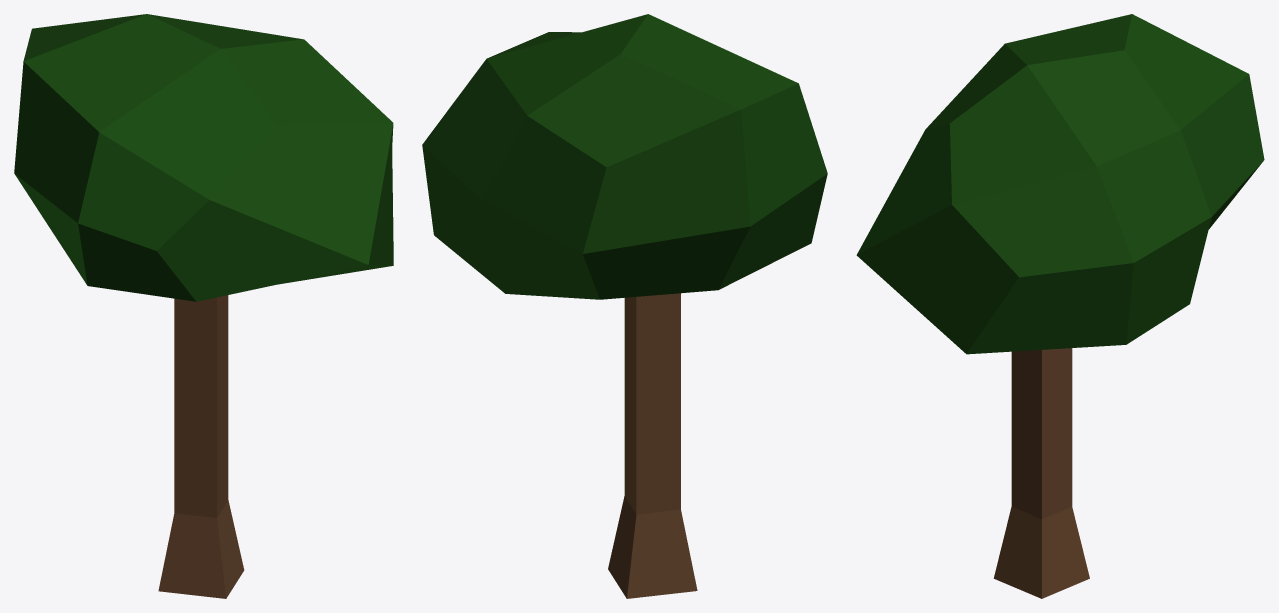
The model's file is tree_1.glb.
The picture shows the model from 3 angles, left to right: view 1: azimuth 30°, elevation 25°; view 2: azimuth 150°, elevation 25°; view 3: azimuth 270°, elevation 25°; orthographic projection. The views are drawn at different scales.
Parts seen in each view (by area): view 1: rock, Cylinder.003; view 2: rock, Cylinder.003; view 3: rock, Cylinder.003.
Boxes of the visible parts, left/top/right/bottom form: rock: left=14, top=14, right=393, bottom=301; Cylinder.003: left=158, top=295, right=244, bottom=598; rock: left=422, top=14, right=827, bottom=299; Cylinder.003: left=608, top=293, right=697, bottom=598; rock: left=856, top=14, right=1264, bottom=354; Cylinder.003: left=993, top=348, right=1089, bottom=598.
Size of the model in its own units: 0.3793 by 0.6009 by 0.425.
